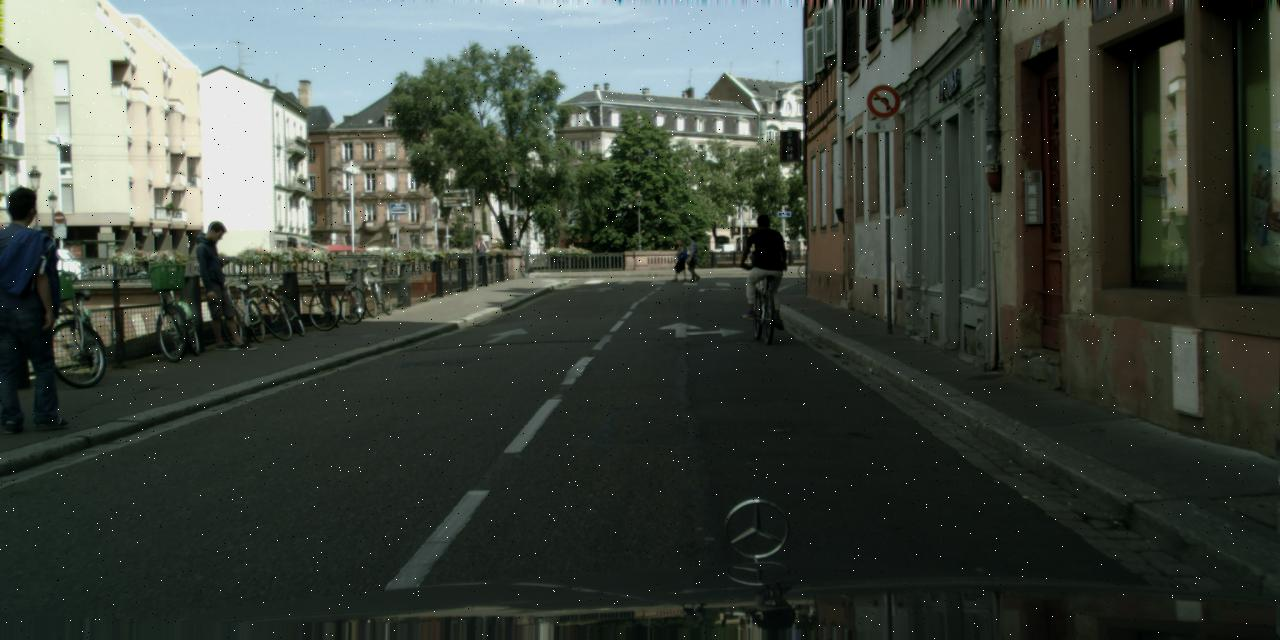ped: (0, 185, 76, 429), (203, 222, 254, 348), (744, 214, 788, 322), (684, 236, 702, 282), (670, 238, 687, 281), (474, 238, 488, 276)
